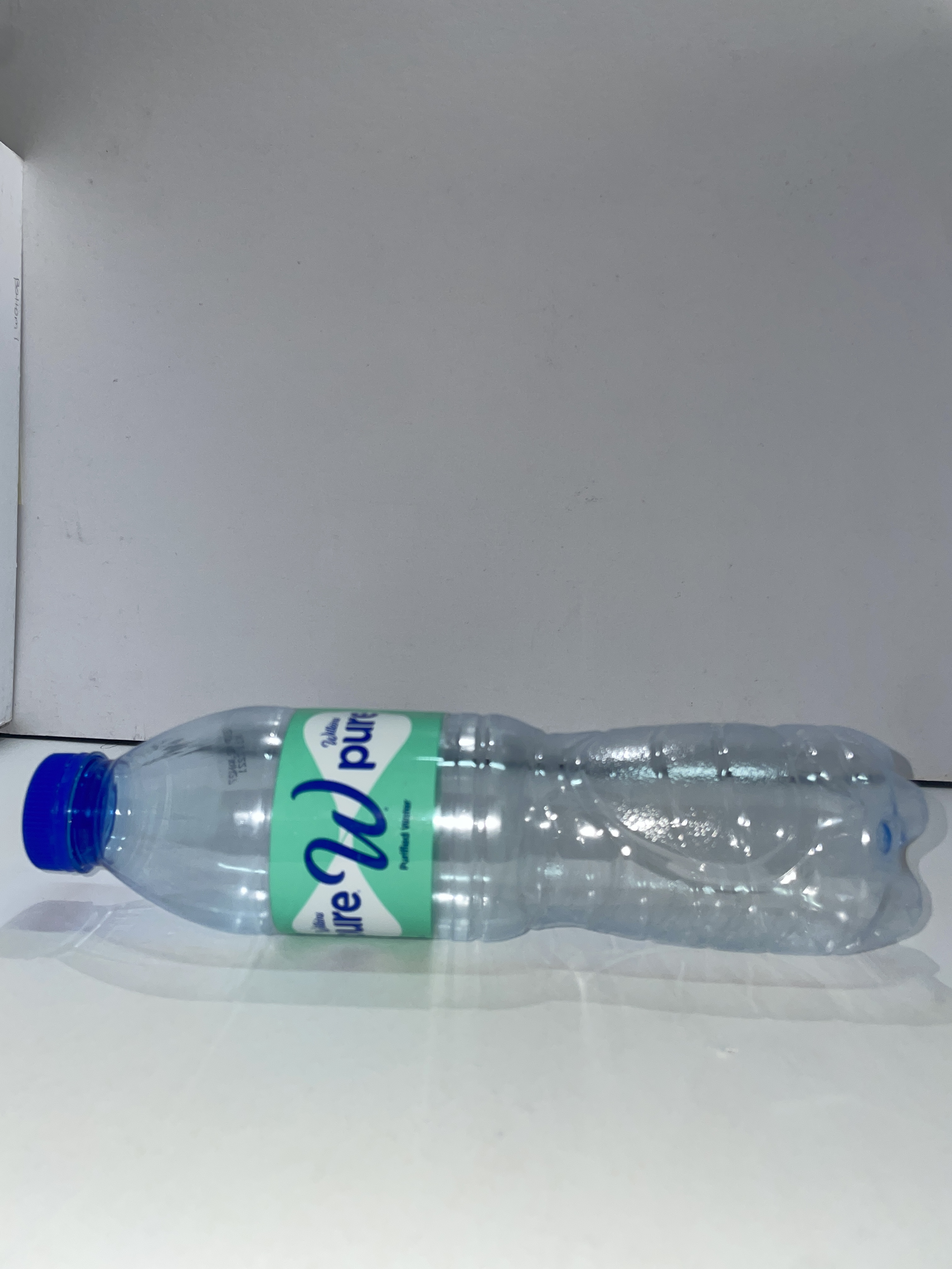wilkins pure 500ml: (22, 706, 927, 955)
